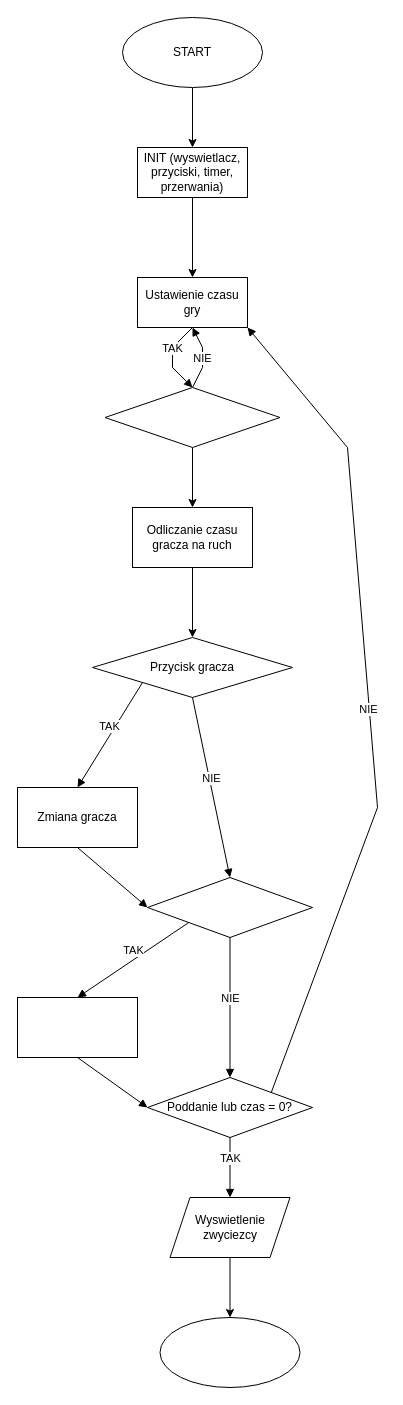
This 403x1405 diagram has some shape labels left out. Here are the shapes that lost their labels. From the top down, the box of each, then its label:
(104, 386, 280, 448): START?
(146, 876, 312, 938): Pauza?
(16, 996, 138, 1058): Zatrzymanie czasu do wznowienia
(159, 1316, 300, 1388): KONIEC
